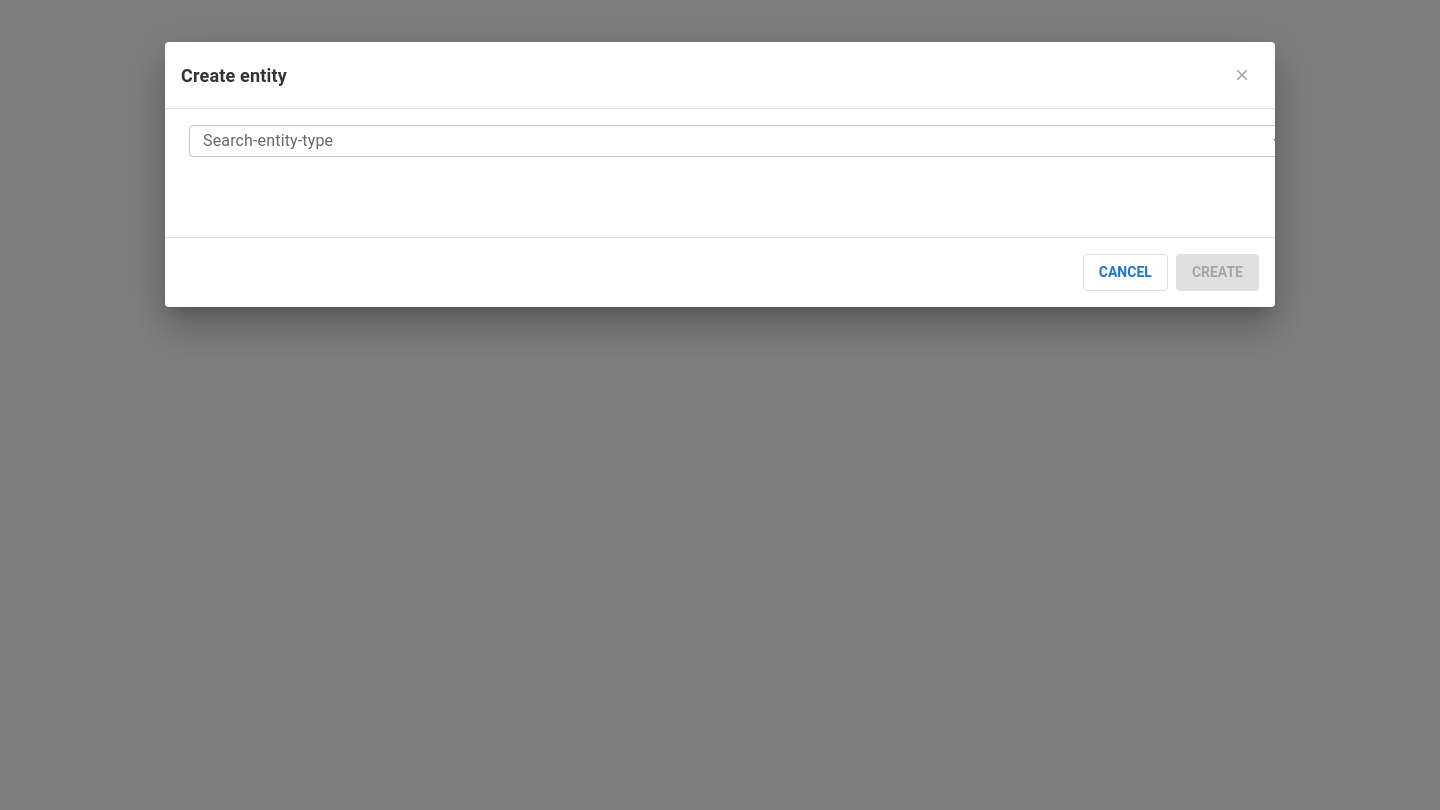
EntityForm - 100% Coverage › Entity Type Selection › shows enumchecking when listed in session config (positive)
The width and height of the screenshot is (1440, 810).
Press the mouse on the dropdown labelled "Search-entity-type" at x=730, y=141, box [193,127,1267,155]
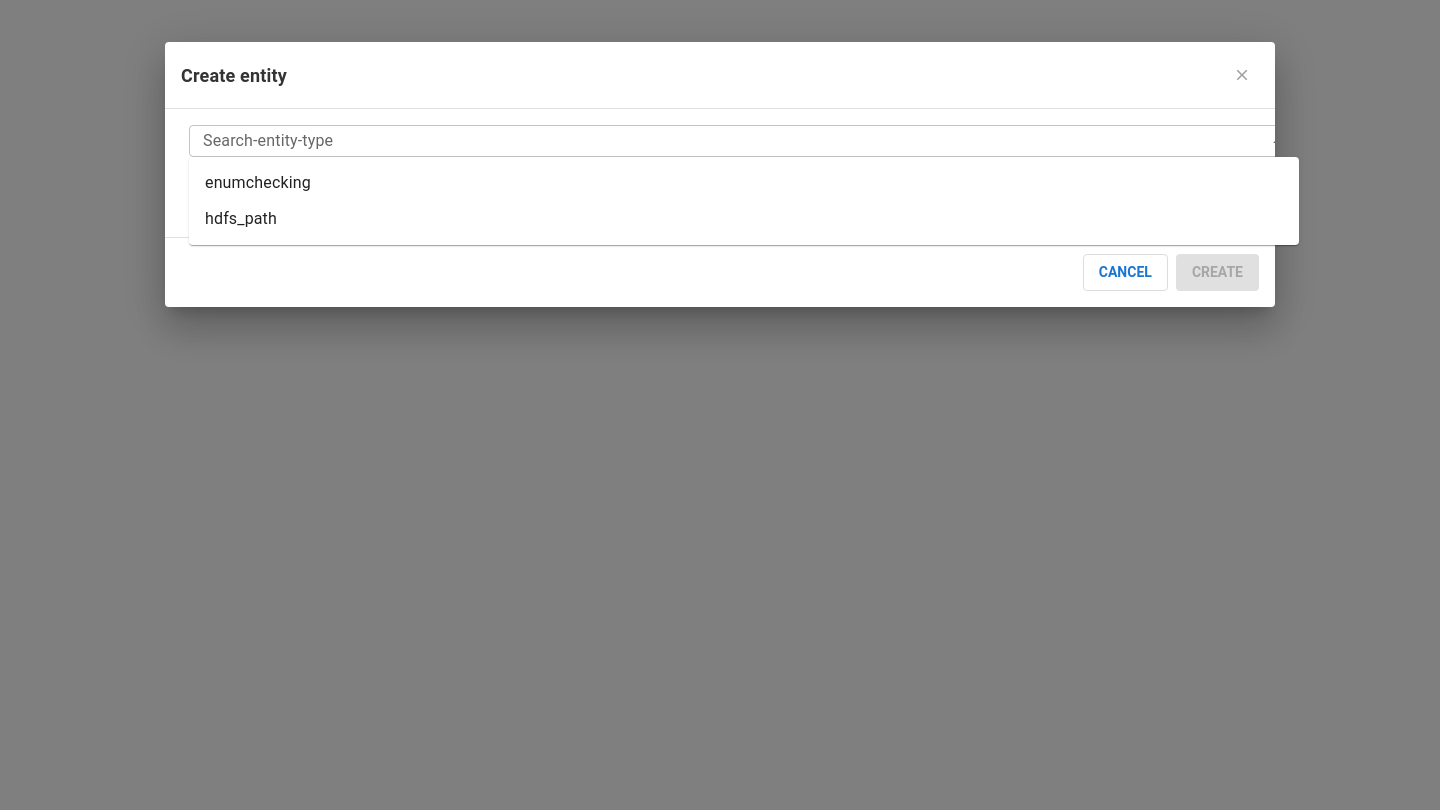
Check: the option "enumchecking" is shown, box [205,173,311,192]
Check: the option "hdfs_path" is shown, box [205,209,277,228]
